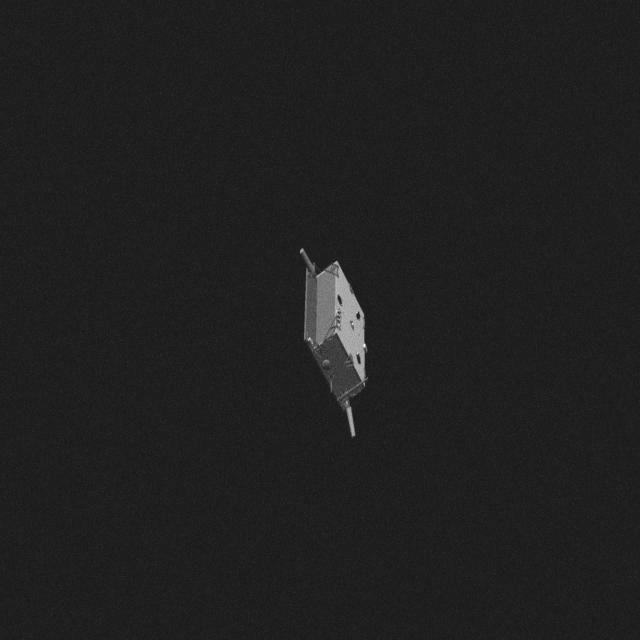satellite: (290, 244, 380, 436)
